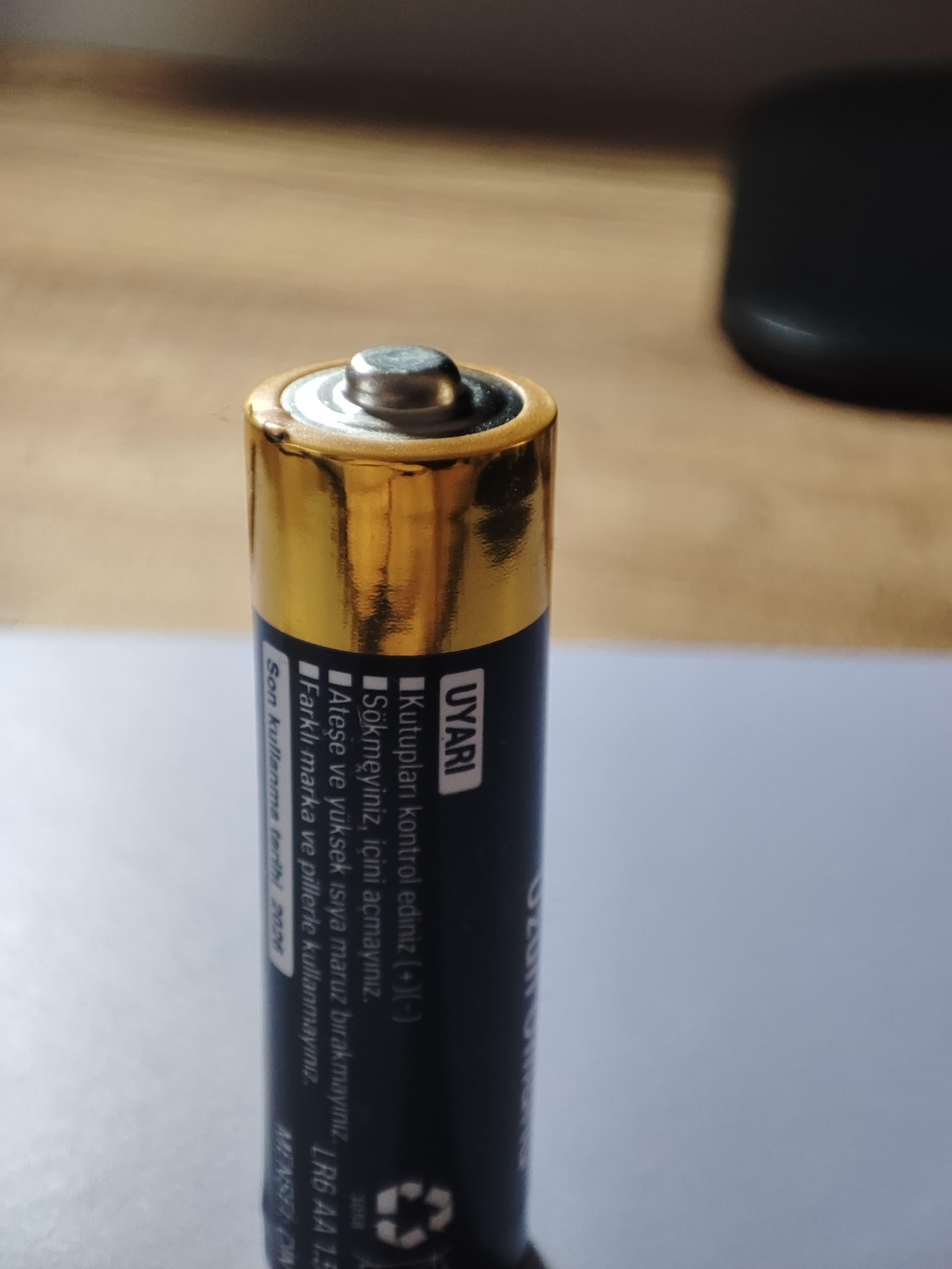AA: (242, 342, 559, 1267)
